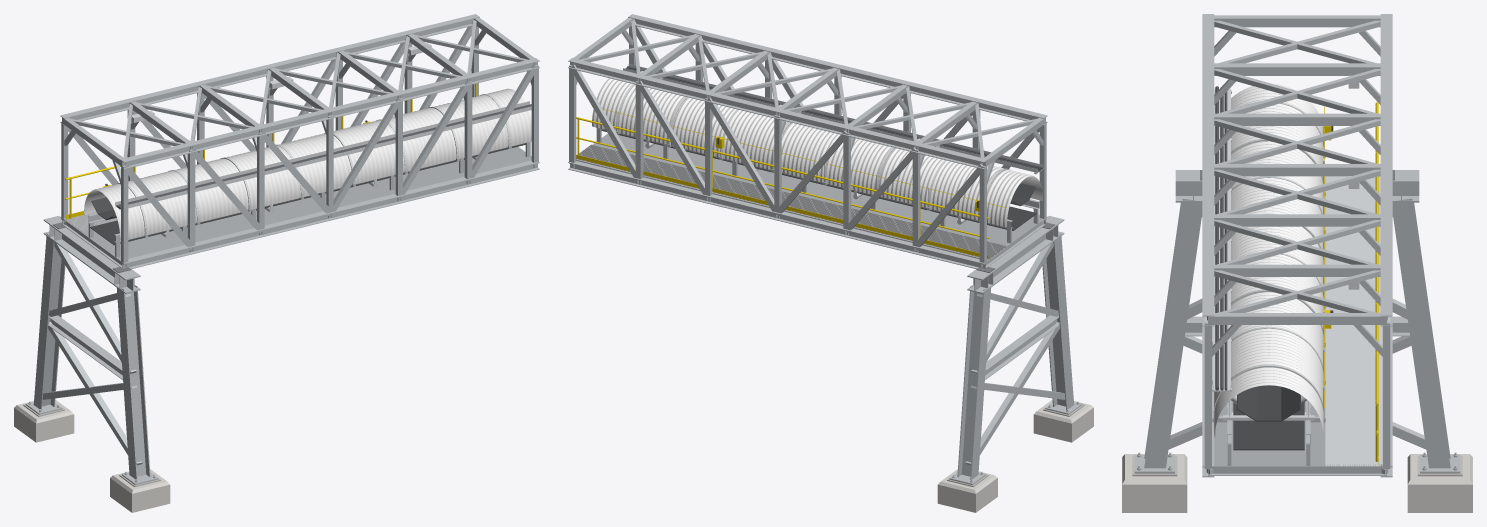
File: Conveyor_Gallery_Module.glb
The picture shows the model from 3 angles, left to right: view 1: azimuth 30°, elevation 25°; view 2: azimuth 150°, elevation 25°; view 3: azimuth 270°, elevation 25°; orthographic projection. The views are drawn at different scales.
Parts seen in each view (by area): view 1: hood_sheets, chords, truss_diagonals, truss_verticals, bent_columns, spill_deck, top_bracing, top_struts, bent_bracing, pedestals, cable_ladder, cap_beam (+5 smaller); view 2: hood_sheets, chords, truss_verticals, bent_columns, truss_diagonals, grating, top_bracing, spill_deck, top_struts, bent_bracing, pedestals, cap_beam (+8 smaller); view 3: hood_sheets, top_bracing, top_struts, bent_columns, grating, chords, pedestals, knee_braces, spill_deck, belt_return, truss_verticals, cables (+10 smaller).
Boxes of the visible parts, <box> form: hood_sheets: <box>84,88,531,241</box>; chords: <box>60,14,539,268</box>; truss_diagonals: <box>68,21,537,249</box>; truss_verticals: <box>61,26,538,264</box>; bent_columns: <box>33,233,150,480</box>; spill_deck: <box>83,147,531,260</box>; top_bracing: <box>71,19,534,165</box>; top_struts: <box>62,17,534,166</box>; bent_bracing: <box>42,242,142,465</box>; pedestals: <box>14,399,170,512</box>; cable_ladder: <box>115,101,531,209</box>; cap_beam: <box>43,215,140,293</box>; hood_sheets: <box>592,78,1042,227</box>; chords: <box>568,14,1047,268</box>; truss_verticals: <box>569,26,1046,264</box>; bent_columns: <box>957,233,1074,480</box>; truss_diagonals: <box>572,21,1042,249</box>; grating: <box>576,144,1006,260</box>; top_bracing: <box>573,19,1036,165</box>; spill_deck: <box>592,133,1043,247</box>; top_struts: <box>573,17,1045,166</box>; bent_bracing: <box>965,242,1065,465</box>; pedestals: <box>937,399,1093,512</box>; cap_beam: <box>967,215,1064,293</box>; hood_sheets: <box>1214,84,1323,437</box>; top_bracing: <box>1207,20,1387,320</box>; top_struts: <box>1208,15,1386,324</box>; bent_columns: <box>1144,198,1450,468</box>; grating: <box>1325,163,1382,466</box>; chords: <box>1202,14,1392,477</box>; pedestals: <box>1122,454,1472,512</box>; knee_braces: <box>1212,30,1382,356</box>; spill_deck: <box>1214,176,1325,466</box>; belt_return: <box>1233,402,1304,450</box>; truss_verticals: <box>1204,321,1390,468</box>; cables: <box>1215,86,1227,390</box>.
Size of the model in its own units: 12.55 by 9 by 5.9.
